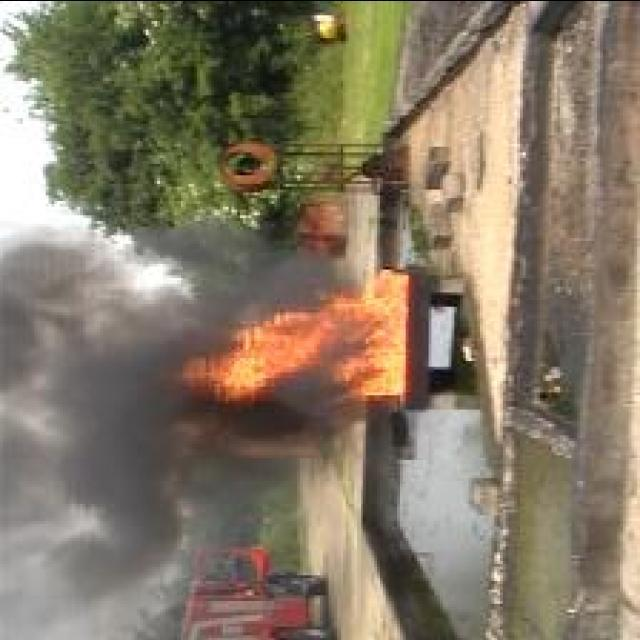Fire: (173, 268, 410, 402)
